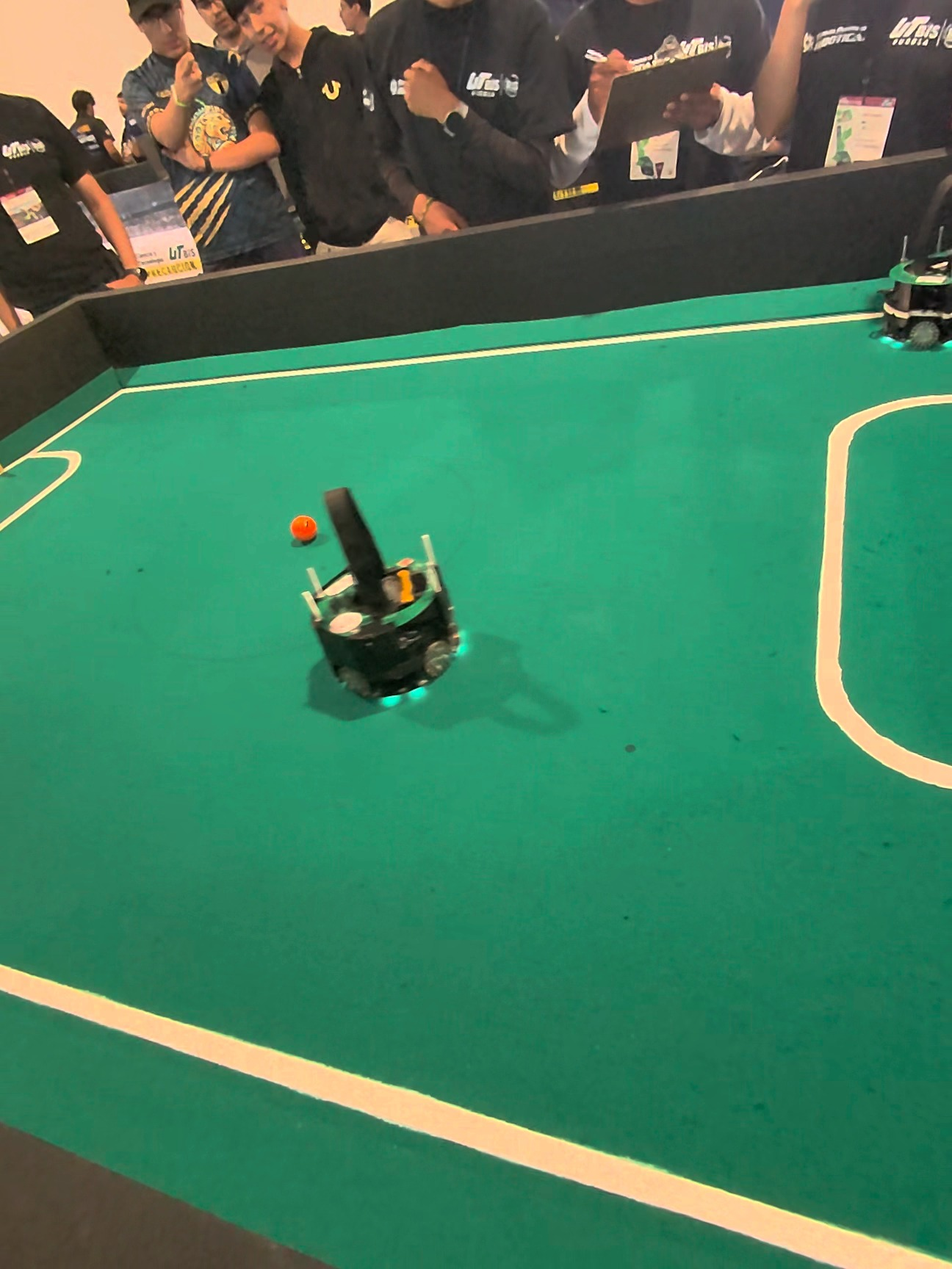Robot: (294, 472, 477, 725), (878, 171, 952, 366)
pelota: (291, 512, 321, 539)
